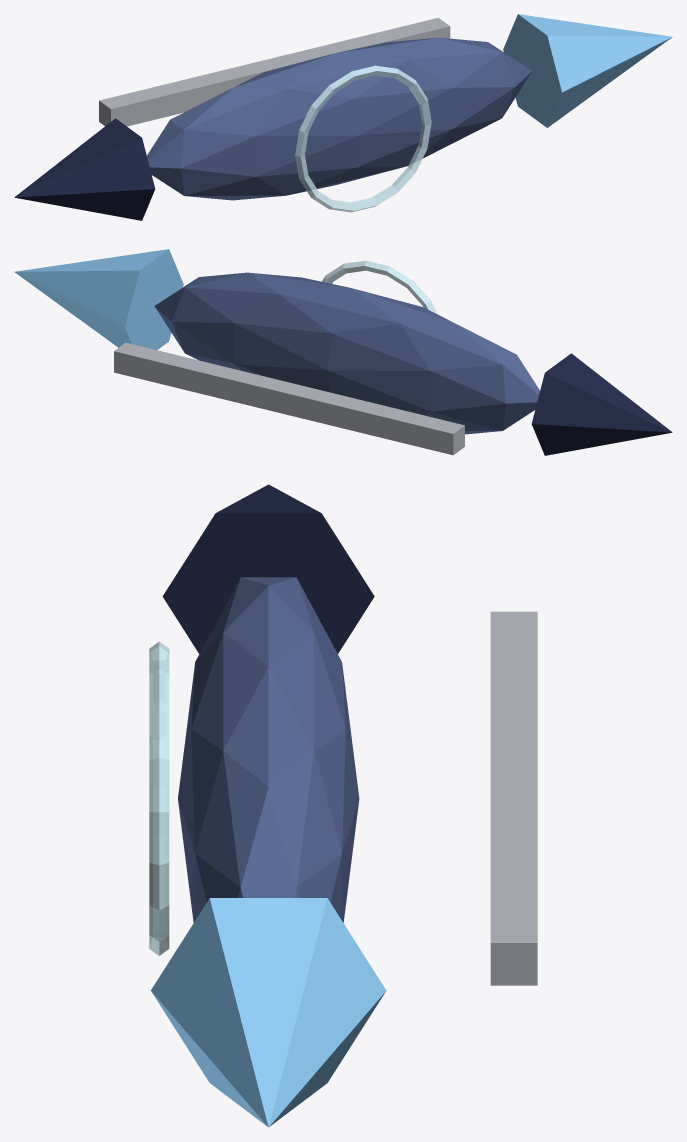
File: 05_skyship_hull.glb
The picture shows the model from 3 angles, top to bottom: view 1: azimuth 30°, elevation 25°; view 2: azimuth 150°, elevation 25°; view 3: azimuth 270°, elevation 25°; orthographic projection. The views are drawn at different scales.
Parts seen in each view (by area): view 1: hull_low_poly, bow_upgrade, stern_fin, keel_plate, size_class_ring; view 2: hull_low_poly, keel_plate, bow_upgrade, stern_fin, size_class_ring; view 3: hull_low_poly, bow_upgrade, keel_plate, stern_fin, size_class_ring.
Boxes of the visible parts, box(x1,y1,x2,y2) form: hull_low_poly: box(147, 37, 532, 200); bow_upgrade: box(503, 14, 672, 127); stern_fin: box(14, 118, 155, 220); keel_plate: box(99, 17, 450, 126); size_class_ring: box(295, 65, 431, 212); hull_low_poly: box(154, 272, 539, 434); keel_plate: box(114, 342, 464, 455); bow_upgrade: box(14, 249, 183, 349); stern_fin: box(531, 353, 672, 455); size_class_ring: box(322, 260, 436, 313); hull_low_poly: box(178, 577, 359, 922); bow_upgrade: box(151, 898, 386, 1127); keel_plate: box(490, 611, 537, 985); stern_fin: box(162, 484, 374, 653); size_class_ring: box(149, 641, 169, 955).
Bounding box in the file's own units: 1.86 × 0.3801 × 0.4747.
